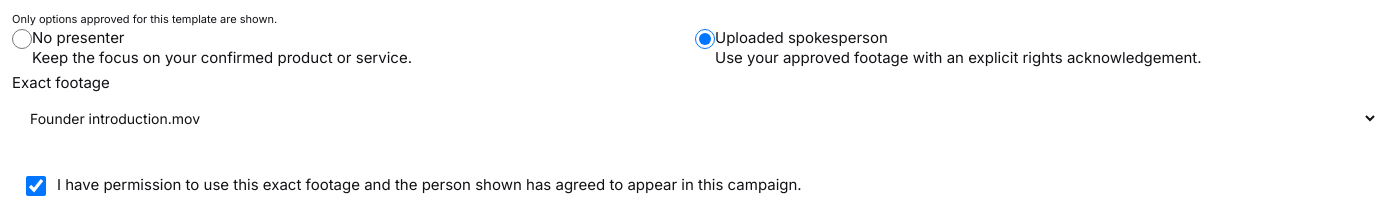
Scenario: PresenterChoice › clears the authoritative spokesperson selection when consent is withdrawn and stays cleared after reload
Later steps or results of the test are not shown.
Click the checkbox labelled "permission to use this exact footage". click: (36,186)
box: [26,176,46,196]
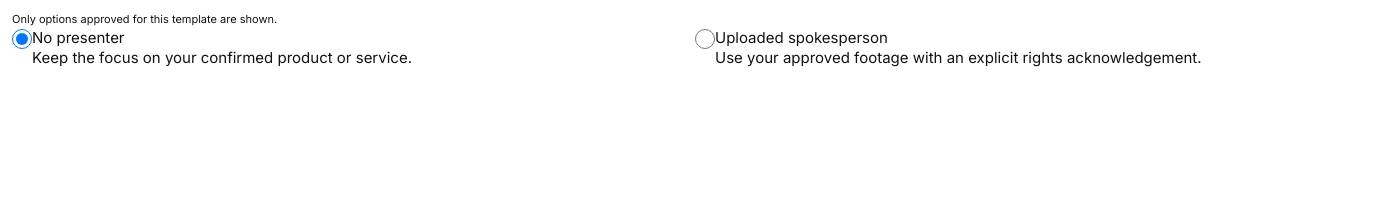
Check: the radio button labelled "No presenter" is checked, box [12,29,32,49]
